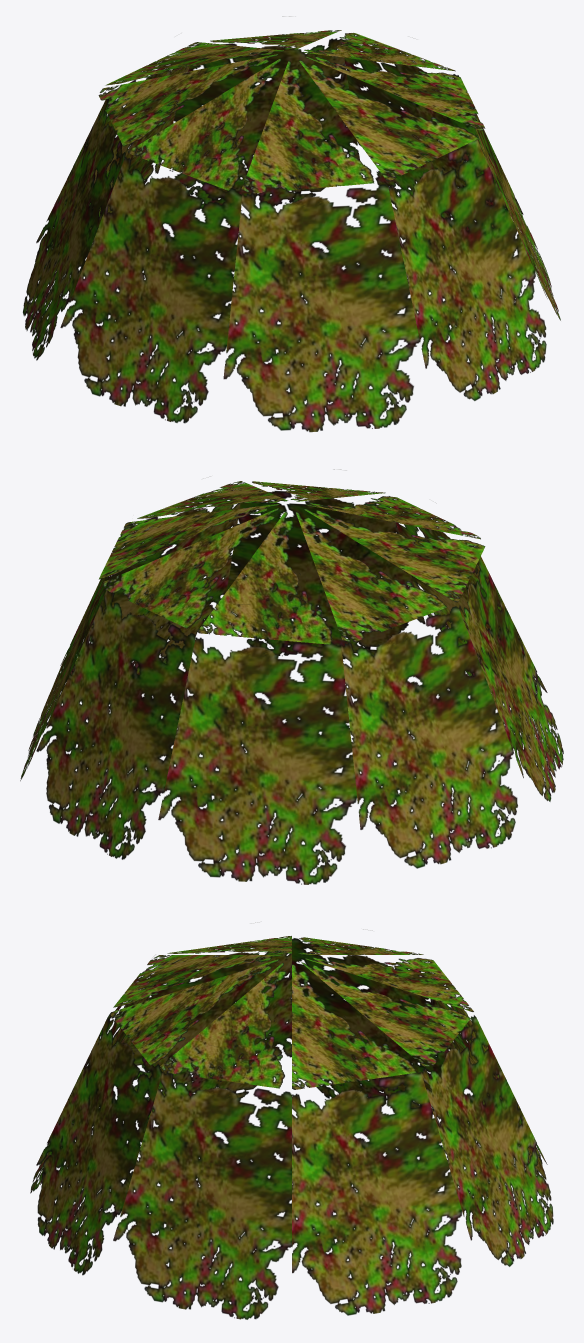
Rendered from bush2.glb.
3 views of the same model, one above another, from view 1: azimuth 30°, elevation 25°; view 2: azimuth 150°, elevation 25°; view 3: azimuth 270°, elevation 25° (orthographic). The views are drawn at different scales.
Parts seen in each view (by area): view 1: tree2; view 2: tree2; view 3: tree2.
Part boxes in pixels (left/top/right/bottom): tree2: left=23, top=30, right=560, bottom=432; tree2: left=20, top=469, right=563, bottom=884; tree2: left=30, top=936, right=553, bottom=1319.
Size of the model in its own units: 1.1 by 0.5592 by 1.1.
1 material, 1 textured.
